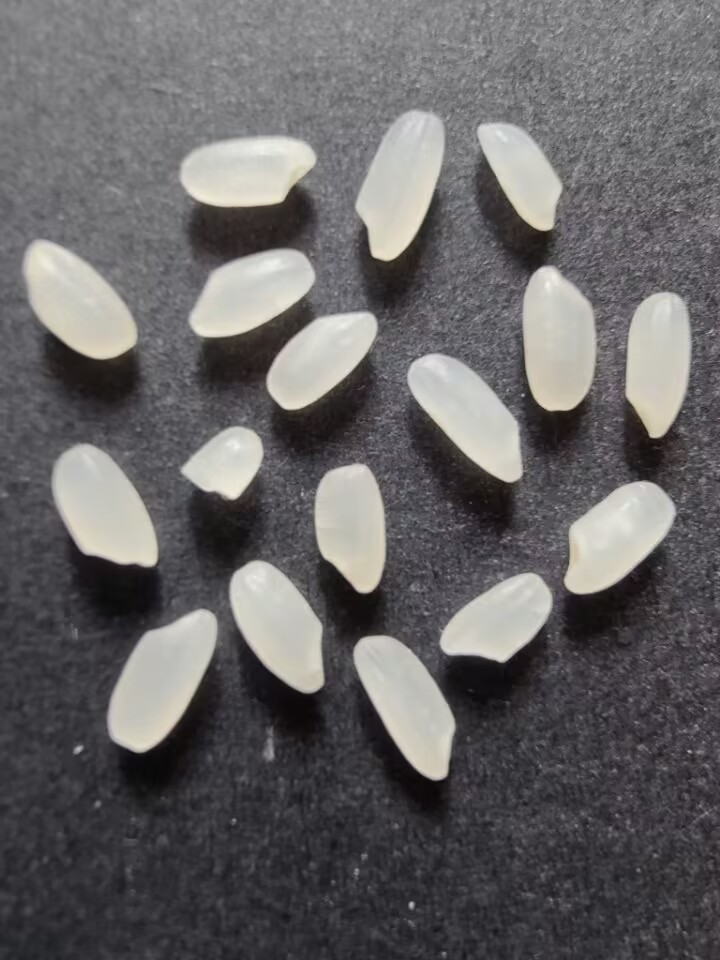broken: (180, 425, 263, 501)
rice: (347, 634, 461, 786), (103, 607, 218, 754), (17, 236, 144, 363), (406, 351, 525, 486), (354, 108, 449, 267), (558, 477, 680, 600), (51, 441, 160, 574), (516, 261, 602, 418), (228, 560, 325, 691), (186, 246, 318, 340), (263, 309, 381, 413), (437, 569, 556, 668), (474, 117, 571, 236), (620, 290, 695, 443), (174, 135, 321, 210), (311, 461, 389, 600)
